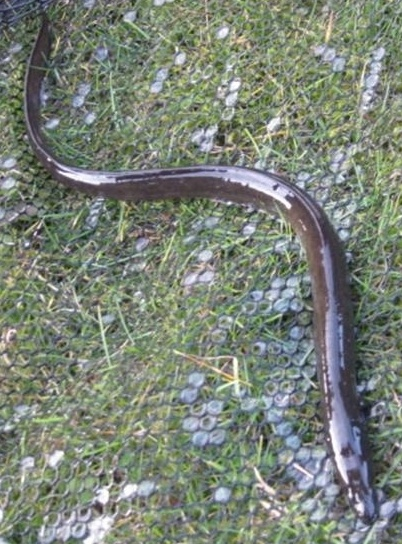Anguilla anguilla: (20, 20, 382, 524)
